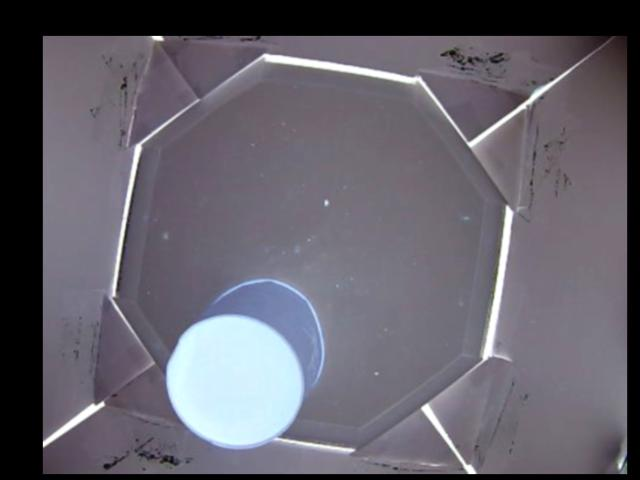Cup: (164, 277, 324, 448)
